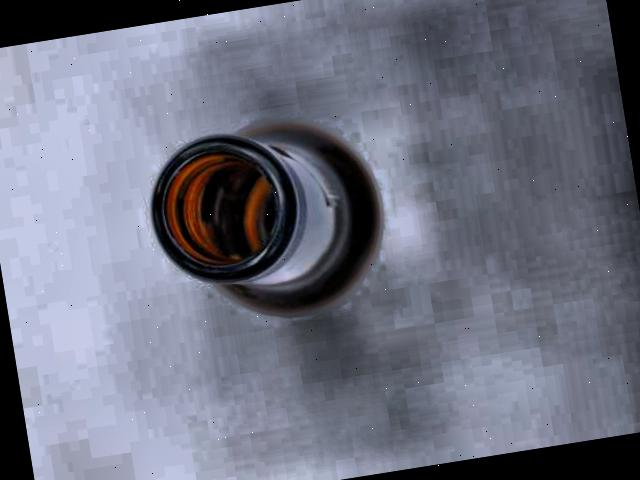Bottles: (140, 103, 397, 332)
